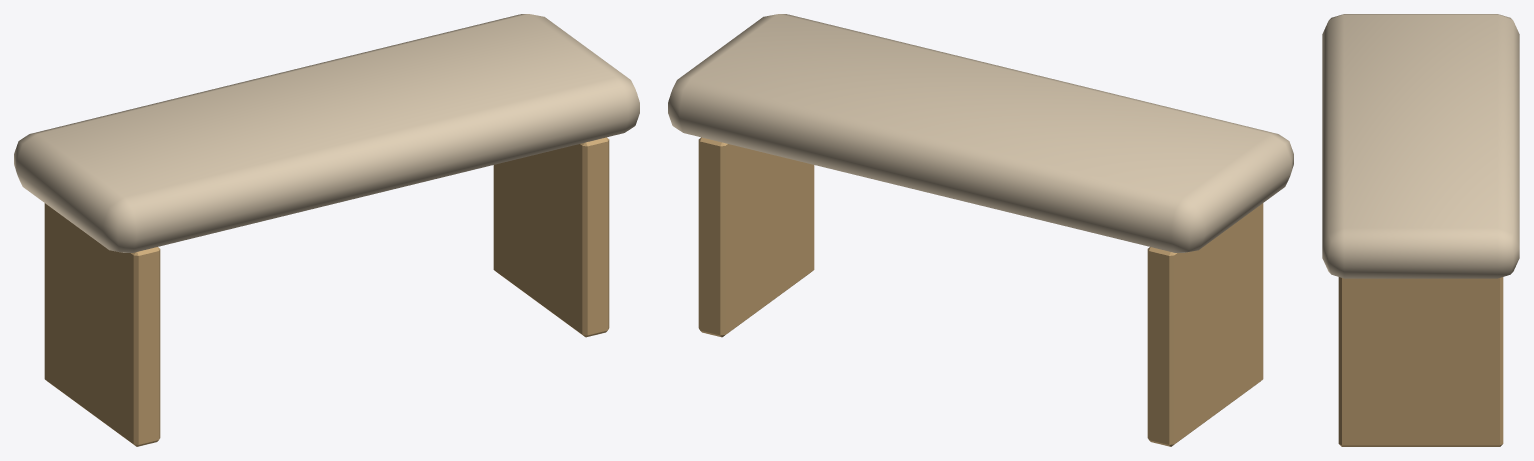
The model's file is i_bench_1.glb.
3 renders of one model, left to right at view 1: azimuth 30°, elevation 25°; view 2: azimuth 150°, elevation 25°; view 3: azimuth 270°, elevation 25°, orthographic. The views are drawn at different scales.
Parts seen in each view (by area): view 1: o, o.001, o.002; view 2: o, o.001, o.002; view 3: o, o.002.
Boxes of the visible parts, left/top/right/bottom form: o: left=14, top=14, right=639, bottom=252; o.001: left=44, top=203, right=160, bottom=446; o.002: left=493, top=137, right=609, bottom=337; o: left=668, top=14, right=1293, bottom=252; o.001: left=1147, top=203, right=1263, bottom=446; o.002: left=698, top=137, right=814, bottom=337; o: left=1322, top=14, right=1519, bottom=278; o.002: left=1338, top=277, right=1503, bottom=446.
Bounding box in the file's own units: 1 × 0.45 × 0.36.
